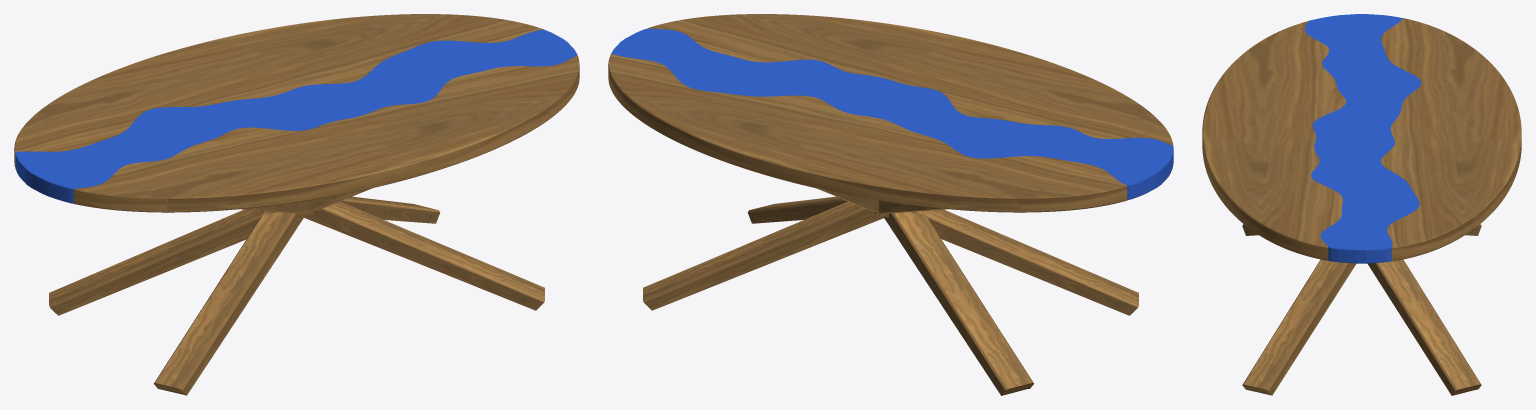
Rendered from ellipse-elm-epoxy-sapphire.glb.
The picture shows the model from 3 angles, left to right: view 1: azimuth 30°, elevation 25°; view 2: azimuth 150°, elevation 25°; view 3: azimuth 270°, elevation 25°; orthographic projection. The views are drawn at different scales.
Visible parts, largest first — view 1: Wood_Ellipse_EpoxyFar, Wood_Ellipse_EpoxyNear, Base_Ellipse, Resin_Ellipse; view 2: Wood_Ellipse_EpoxyNear, Wood_Ellipse_EpoxyFar, Base_Ellipse, Resin_Ellipse; view 3: Wood_Ellipse_EpoxyNear, Wood_Ellipse_EpoxyFar, Resin_Ellipse, Base_Ellipse.
Boxes of the visible parts, x1,y1,x2,y2 form: Wood_Ellipse_EpoxyFar: (73, 55, 579, 212); Wood_Ellipse_EpoxyNear: (14, 14, 543, 166); Base_Ellipse: (49, 188, 544, 395); Resin_Ellipse: (15, 29, 577, 203); Wood_Ellipse_EpoxyNear: (608, 53, 1127, 212); Wood_Ellipse_EpoxyFar: (647, 14, 1173, 145); Base_Ellipse: (643, 188, 1138, 395); Resin_Ellipse: (611, 28, 1173, 200); Wood_Ellipse_EpoxyNear: (1381, 18, 1521, 261); Wood_Ellipse_EpoxyFar: (1202, 21, 1345, 260); Resin_Ellipse: (1305, 14, 1421, 263); Base_Ellipse: (1242, 224, 1481, 395).
Bounding box in the file's own units: 2.13 × 0.762 × 1.22.
Materials: 2 (1 with a texture image).
